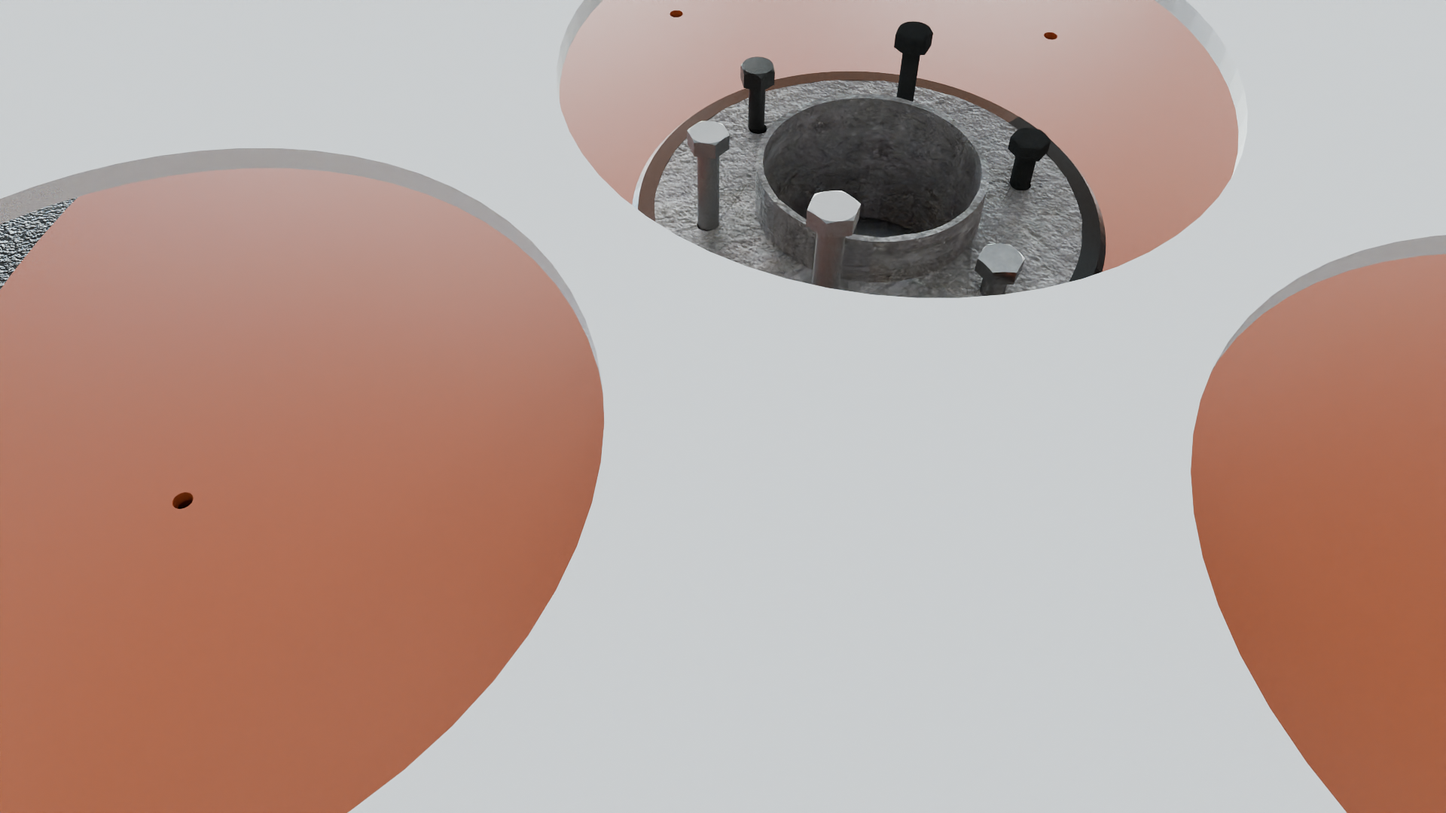bolt: (807, 190, 861, 224), (978, 244, 1025, 273), (687, 121, 730, 146), (1011, 128, 1051, 150), (895, 21, 933, 43), (741, 56, 775, 79)
